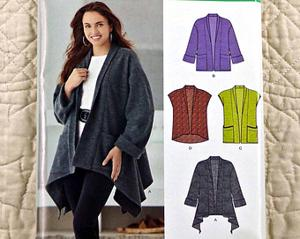C_cardigan sweater: (40, 48, 149, 209)
